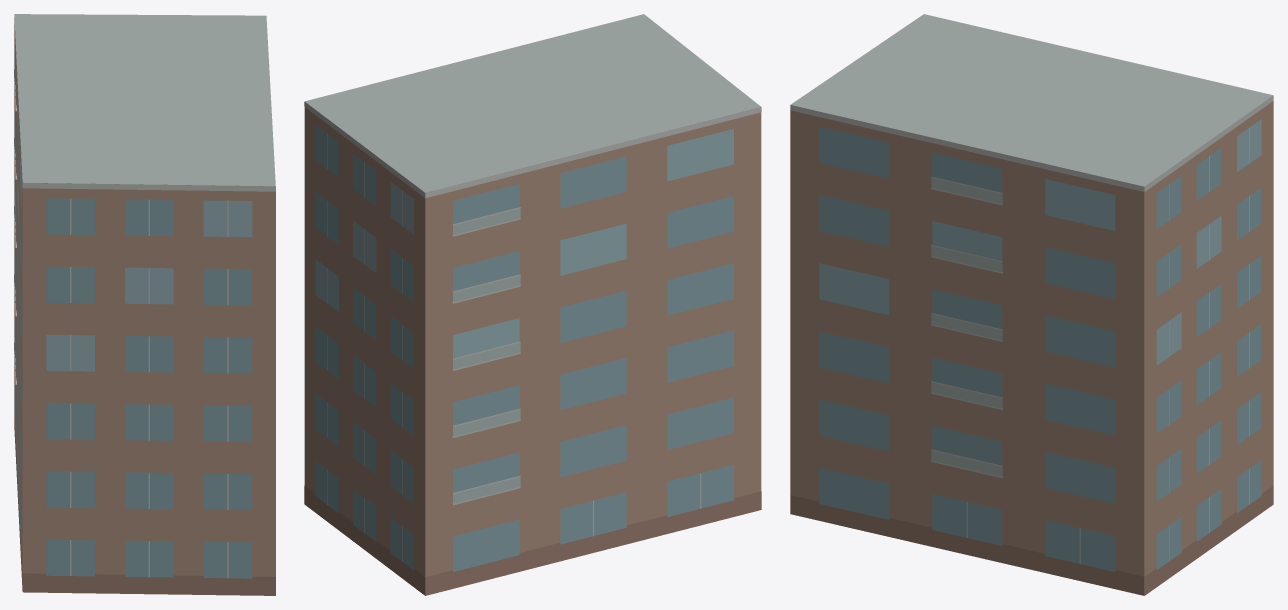
Rendered from survey-upis-32656141.glb.
3 renders of one model, left to right at view 1: azimuth 30°, elevation 25°; view 2: azimuth 150°, elevation 25°; view 3: azimuth 270°, elevation 25°, orthographic.
Parts seen in each view (by area): view 1: survey-upis-32656141.tmp; view 2: survey-upis-32656141.tmp; view 3: survey-upis-32656141.tmp.
Part boxes in pixels (x1=…): survey-upis-32656141.tmp: x1=14, y1=14, x2=275, y2=595; survey-upis-32656141.tmp: x1=304, y1=14, x2=761, y2=595; survey-upis-32656141.tmp: x1=790, y1=14, x2=1273, y2=595.
Size of the model in its own units: 16.57 by 18.3 by 19.6.
